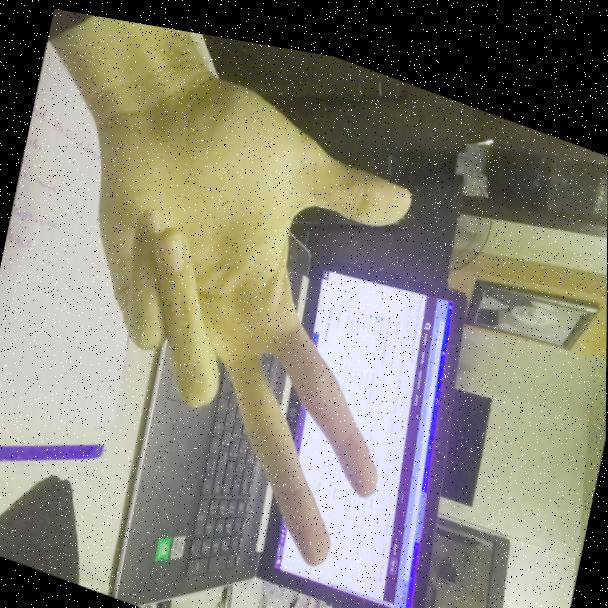three: (40, 47, 443, 594)
